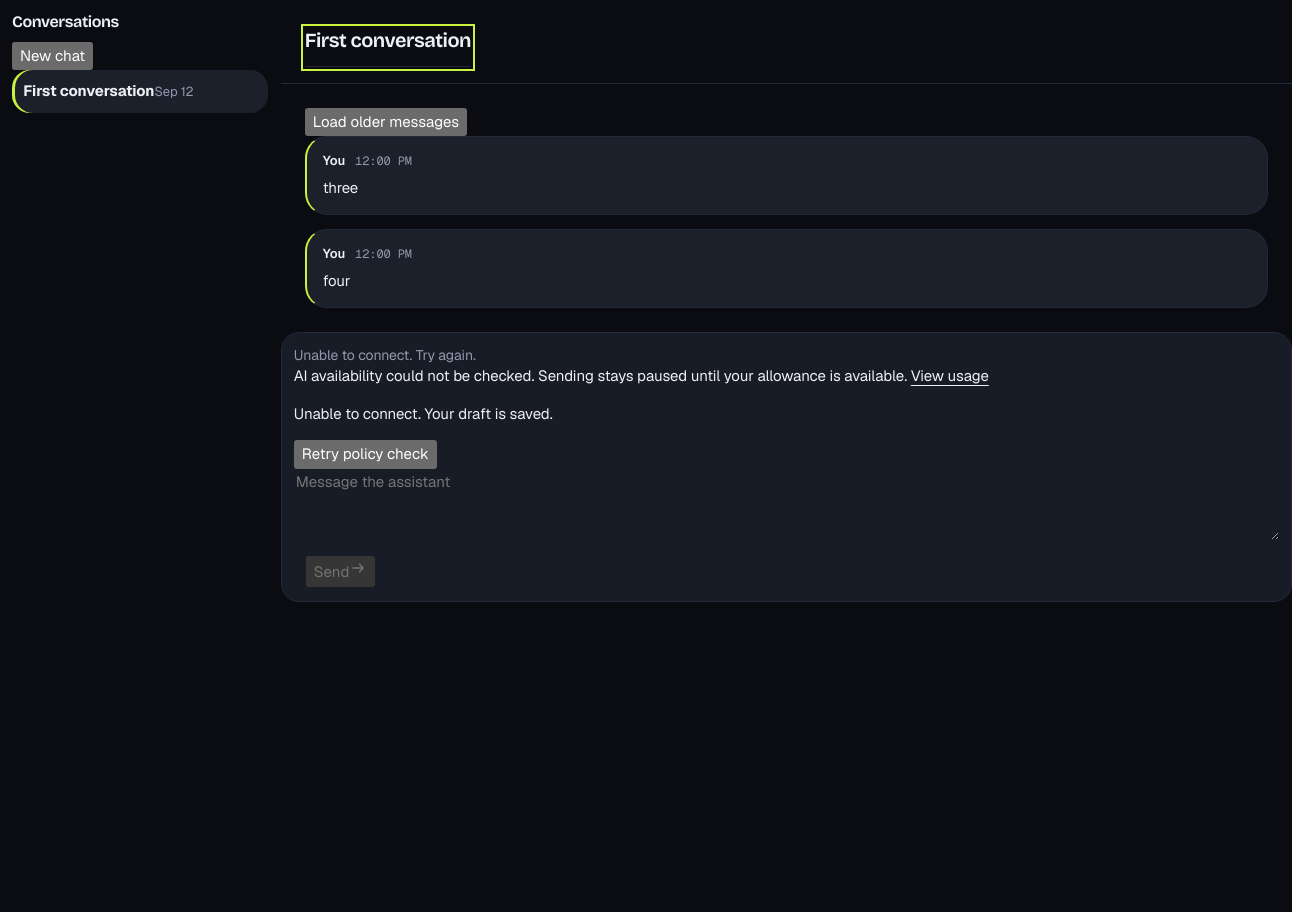
Test case: ChatWorkspace › loads older history pages and reconciles them in ascending de-duplicated order
Click the button with test id "conversation-history-load-older" at (386, 122), box [305, 108, 467, 136]
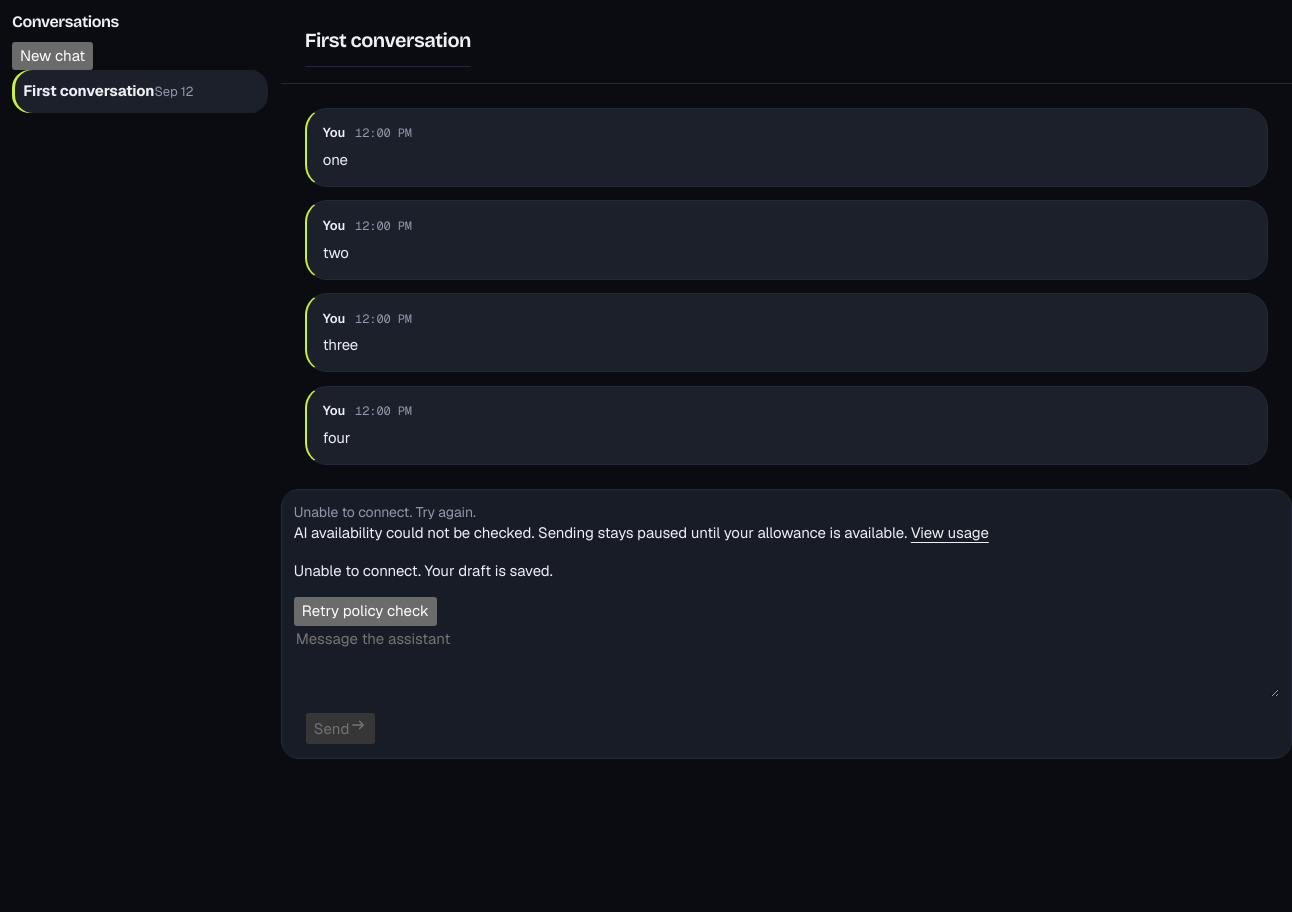
Now the elements with test id "message-content" read "one", "two", "three", "four", in this order, box [323, 150, 348, 169]; [323, 243, 349, 262]; [323, 335, 358, 354]; [323, 428, 350, 447]
Now the button with test id "conversation-history-load-older" is gone
